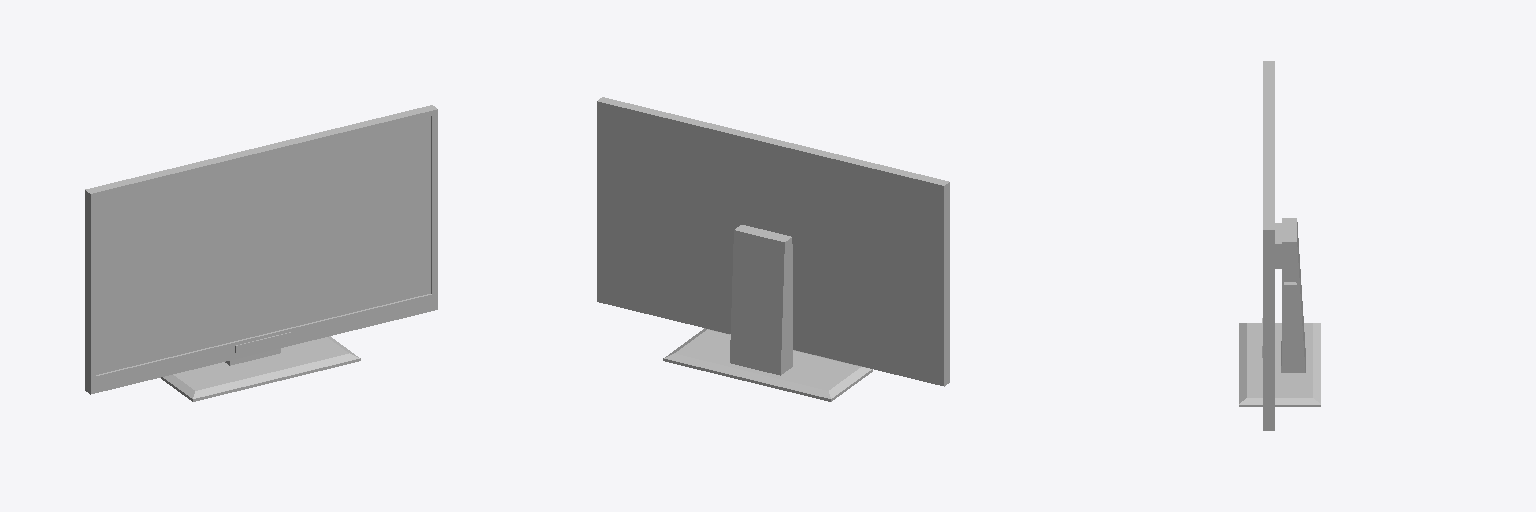
3 renders of one model, left to right at view 1: azimuth 30°, elevation 25°; view 2: azimuth 150°, elevation 25°; view 3: azimuth 270°, elevation 25°, orthographic.
Parts seen in each view (by area): view 1: Low_Poly_TV; view 2: Low_Poly_TV; view 3: Low_Poly_TV.
Boxes of the visible parts, <box> form: Low_Poly_TV: <box>85,105,437,401</box>; Low_Poly_TV: <box>597,97,949,401</box>; Low_Poly_TV: <box>1239,61,1320,430</box>.
Size of the model in its own units: 15.55 by 9.44 by 3.2.